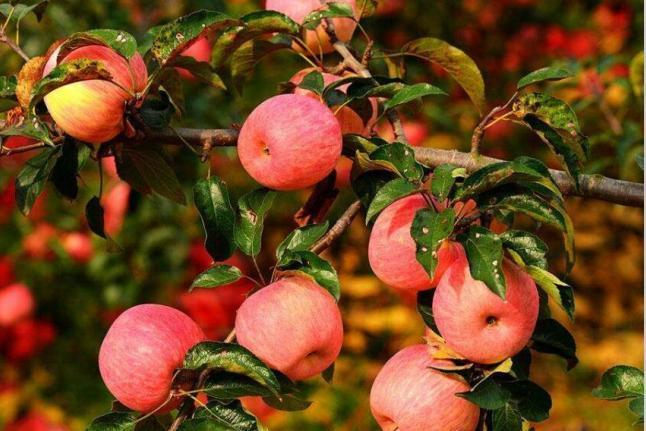apple: (427, 244, 536, 369), (230, 269, 344, 385), (96, 302, 208, 411), (39, 38, 149, 143), (234, 92, 343, 193), (363, 340, 482, 429), (368, 193, 462, 288)
